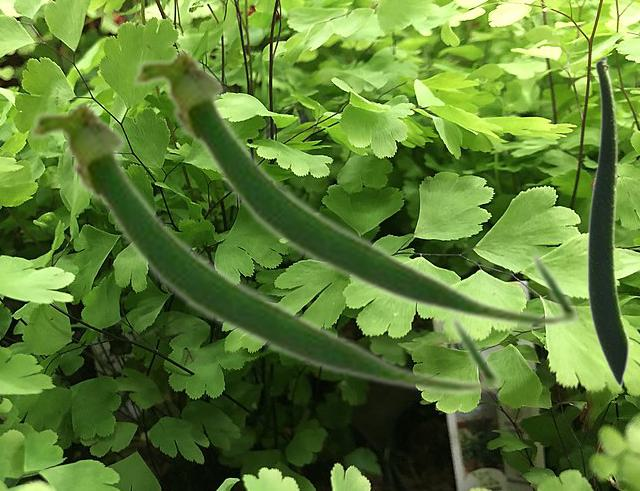french_bean: (25, 96, 503, 397), (129, 45, 581, 330), (586, 55, 629, 386)
